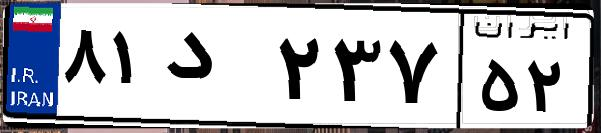1: (110, 28, 158, 98)
2: (270, 28, 330, 110), (525, 38, 570, 115)
3: (330, 28, 385, 110)
5: (475, 38, 525, 113)
7: (385, 28, 445, 110)
8: (57, 26, 110, 100)
د: (158, 20, 270, 120)
